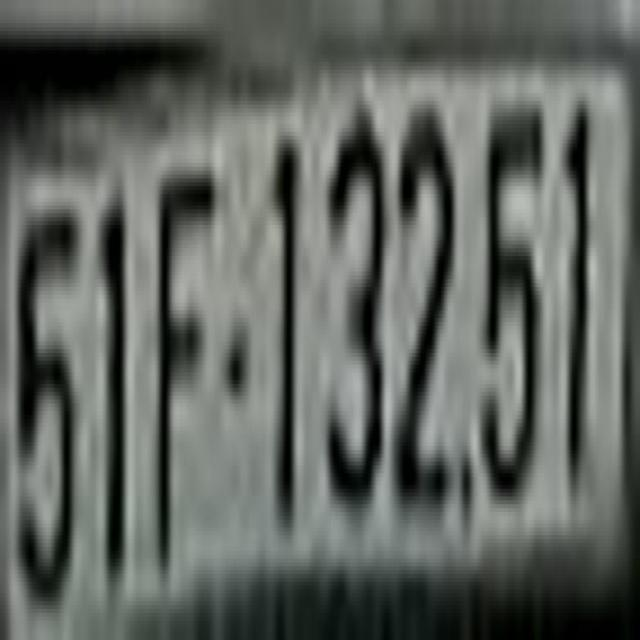1: (557, 93, 598, 516), (96, 163, 130, 574), (270, 96, 298, 566)
2: (393, 108, 452, 504)
3: (322, 85, 386, 524)
5: (478, 112, 545, 524), (17, 174, 78, 602)
F: (154, 140, 216, 562)
